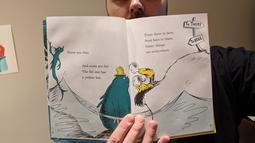text block: (139, 28, 175, 57), (76, 63, 112, 82), (64, 45, 95, 57)
